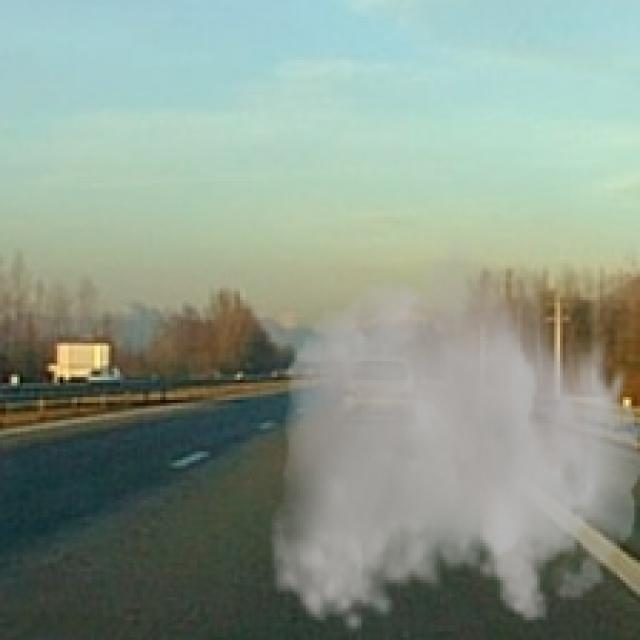Smoke: (268, 225, 638, 638)
